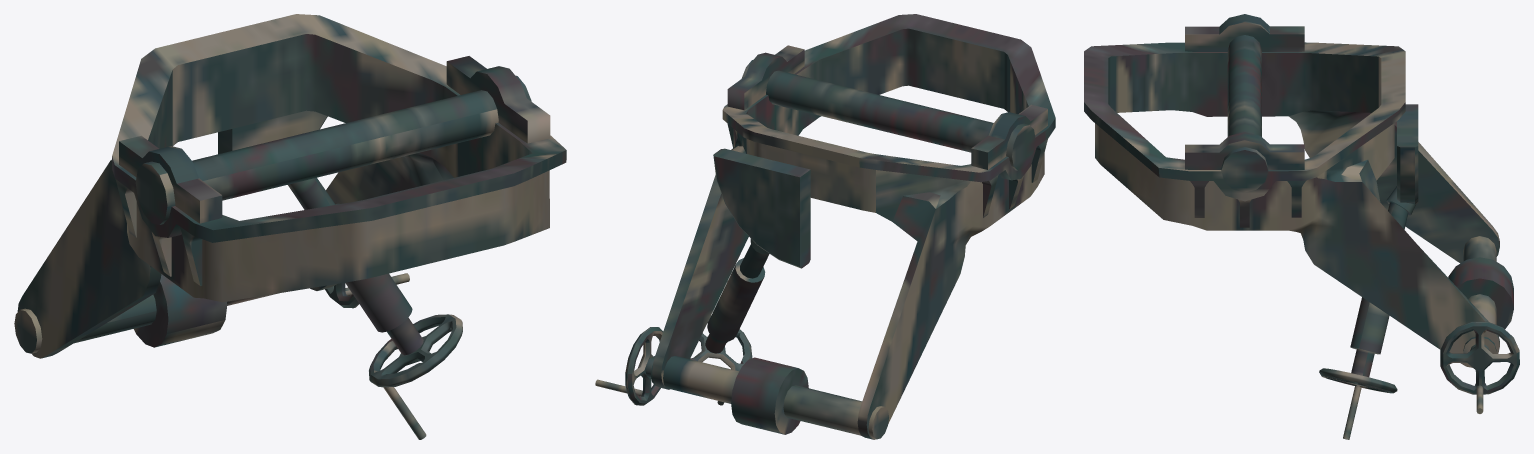
Rendered from Turret_01.glb.
3 renders of one model, left to right at view 1: azimuth 30°, elevation 25°; view 2: azimuth 150°, elevation 25°; view 3: azimuth 270°, elevation 25°, orthographic. The views are drawn at different scales.
Visible parts, largest first — view 1: set_0_group_0; view 2: set_0_group_0; view 3: set_0_group_0.
Boxes of the visible parts, x1,y1,x2,y2 form: set_0_group_0: [14, 14, 566, 439]; set_0_group_0: [595, 14, 1055, 439]; set_0_group_0: [1084, 14, 1519, 439].
Size of the model in its own units: 0.722 by 0.6922 by 0.8887.
1 material, 1 textured.
